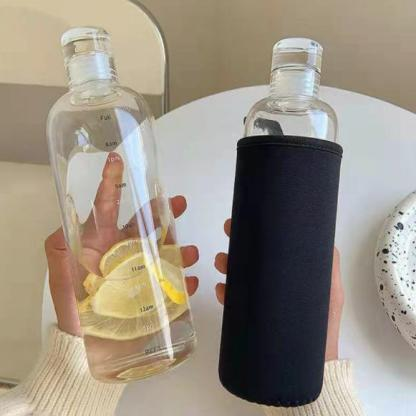Can: (44, 24, 199, 386), (244, 37, 339, 143)
